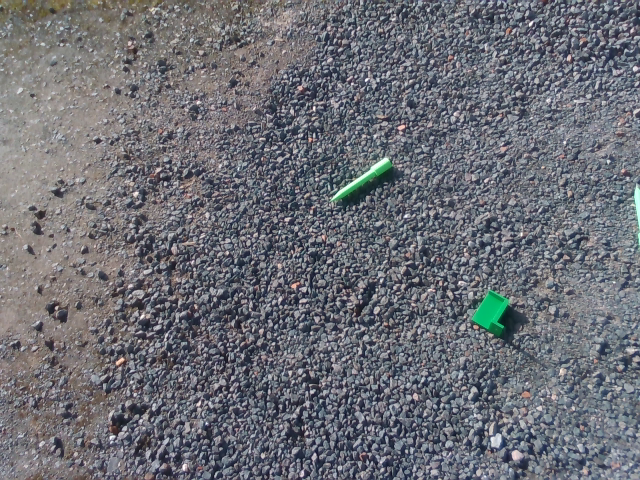Probe: (325, 154, 395, 207)
